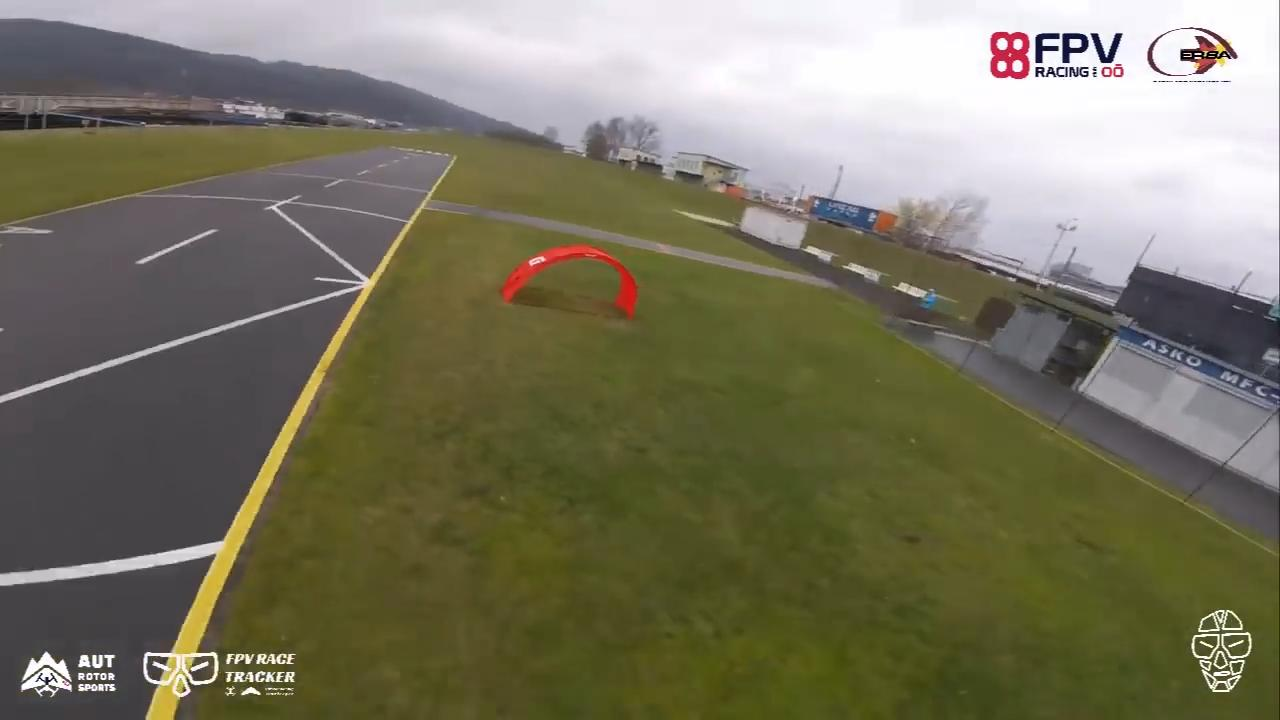gate: (500, 242, 637, 323)
